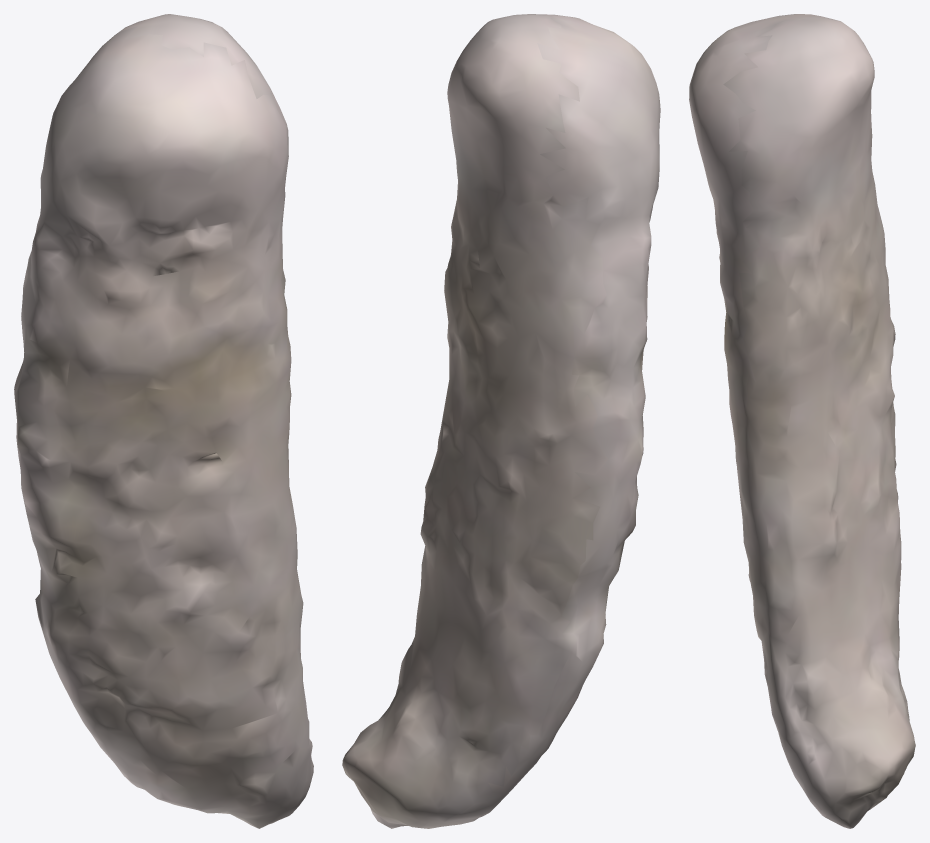
3 renders of one model, left to right at view 1: azimuth 30°, elevation 25°; view 2: azimuth 150°, elevation 25°; view 3: azimuth 270°, elevation 25°, orthographic. The views are drawn at different scales.
Parts seen in each view (by area): view 1: I2_li_unten_Katze.001; view 2: I2_li_unten_Katze.001; view 3: I2_li_unten_Katze.001.
Part boxes in pixels (box(x1,y1,x2,y2)): I2_li_unten_Katze.001: box(14, 14, 313, 828); I2_li_unten_Katze.001: box(342, 14, 660, 828); I2_li_unten_Katze.001: box(689, 14, 915, 828).
Bounding box in the file's own units: 194 × 533 × 146.
1 material, 1 textured.
